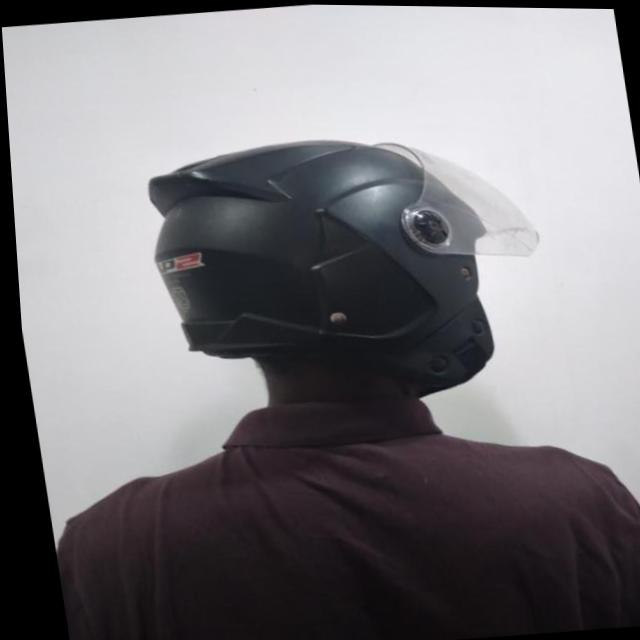helmet: (137, 120, 559, 427)
